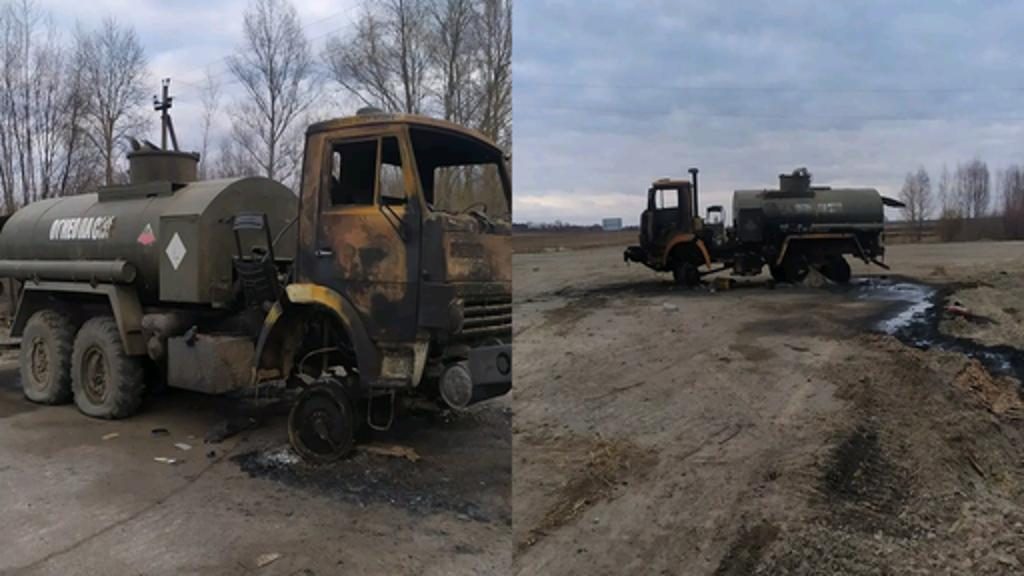TRUCK: (0, 104, 510, 460), (620, 160, 896, 298)
